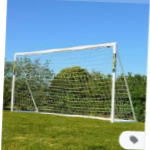goals: (9, 39, 138, 126)
